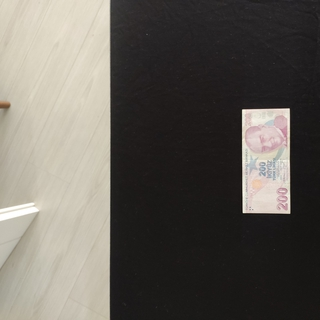200TLFront: (240, 108, 291, 214)
